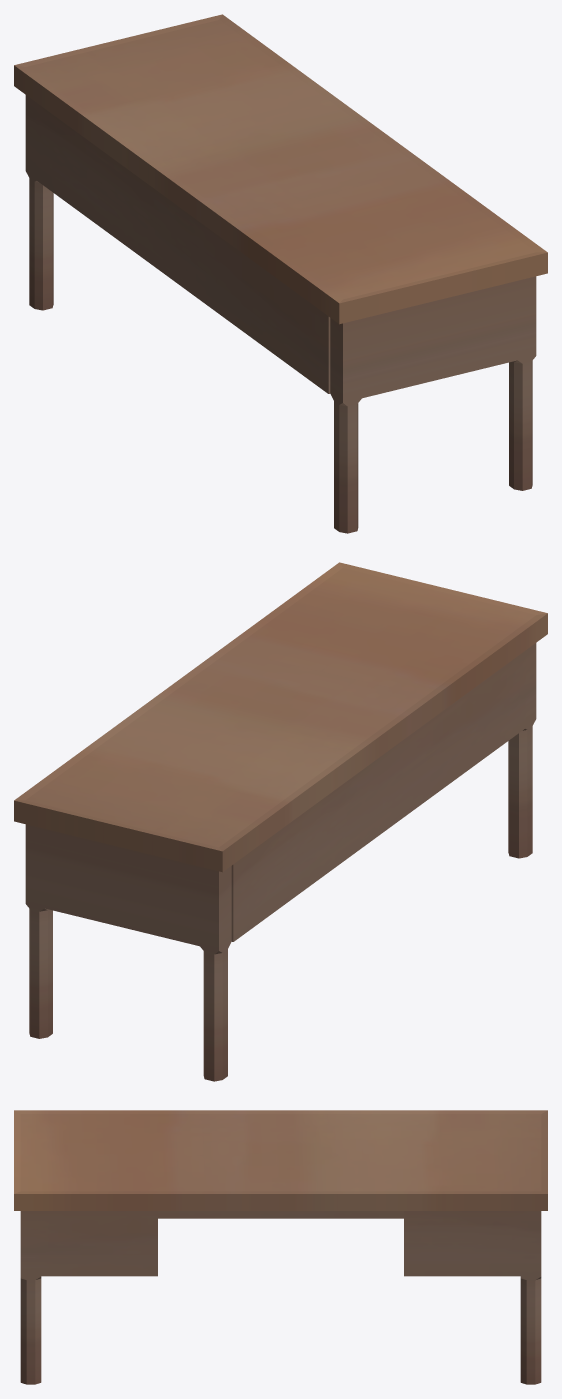
The model's file is Teachersdesk.fbx.
3 renders of one model, top to bottom at view 1: azimuth 30°, elevation 25°; view 2: azimuth 150°, elevation 25°; view 3: azimuth 270°, elevation 25°, orthographic. The views are drawn at different scales.
Parts seen in each view (by area): view 1: tacherstable; view 2: tacherstable; view 3: tacherstable.
Boxes of the visible parts, bbox=[...] form: tacherstable: bbox=[14, 14, 547, 533]; tacherstable: bbox=[14, 562, 547, 1081]; tacherstable: bbox=[14, 1110, 547, 1384].
Size of the model in its own units: 2.7 by 2.92 by 7.28.
1 material, 1 textured.
